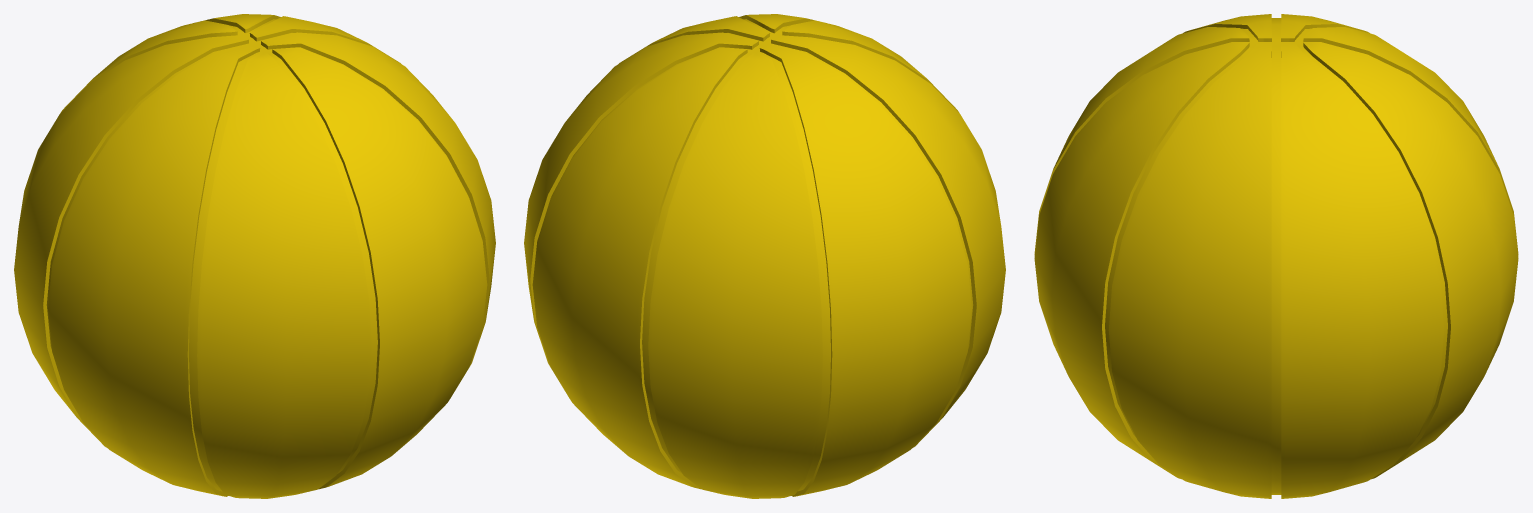
File: k.top.fbx
3 views of the same model, side by side, from view 1: azimuth 30°, elevation 25°; view 2: azimuth 150°, elevation 25°; view 3: azimuth 270°, elevation 25° (orthographic).
Visible parts, largest first — view 1: top.k; view 2: top.k; view 3: top.k.
Part boxes in pixels (x1,y1,x2,y2): top.k: (14, 14, 495, 498); top.k: (524, 14, 1005, 498); top.k: (1034, 14, 1518, 498).
Size of the model in its own units: 19.34 by 19.07 by 19.34.
